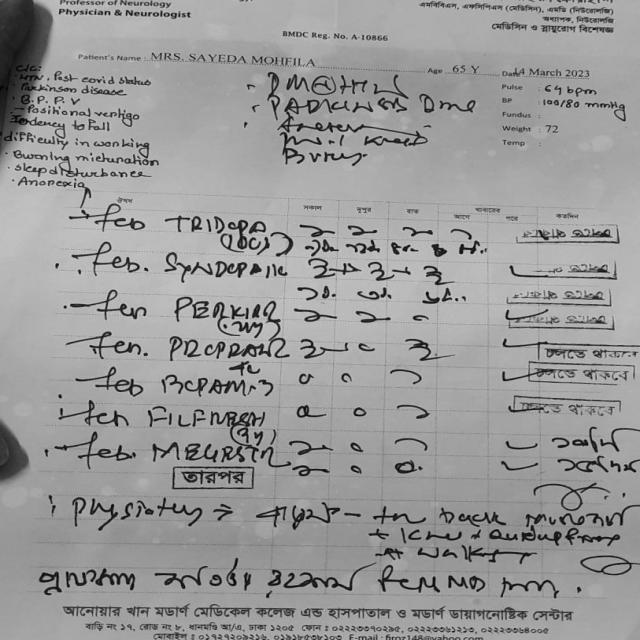medicine: (158, 248, 266, 284), (142, 404, 276, 432), (156, 368, 256, 404), (171, 296, 280, 322), (164, 212, 272, 237)
